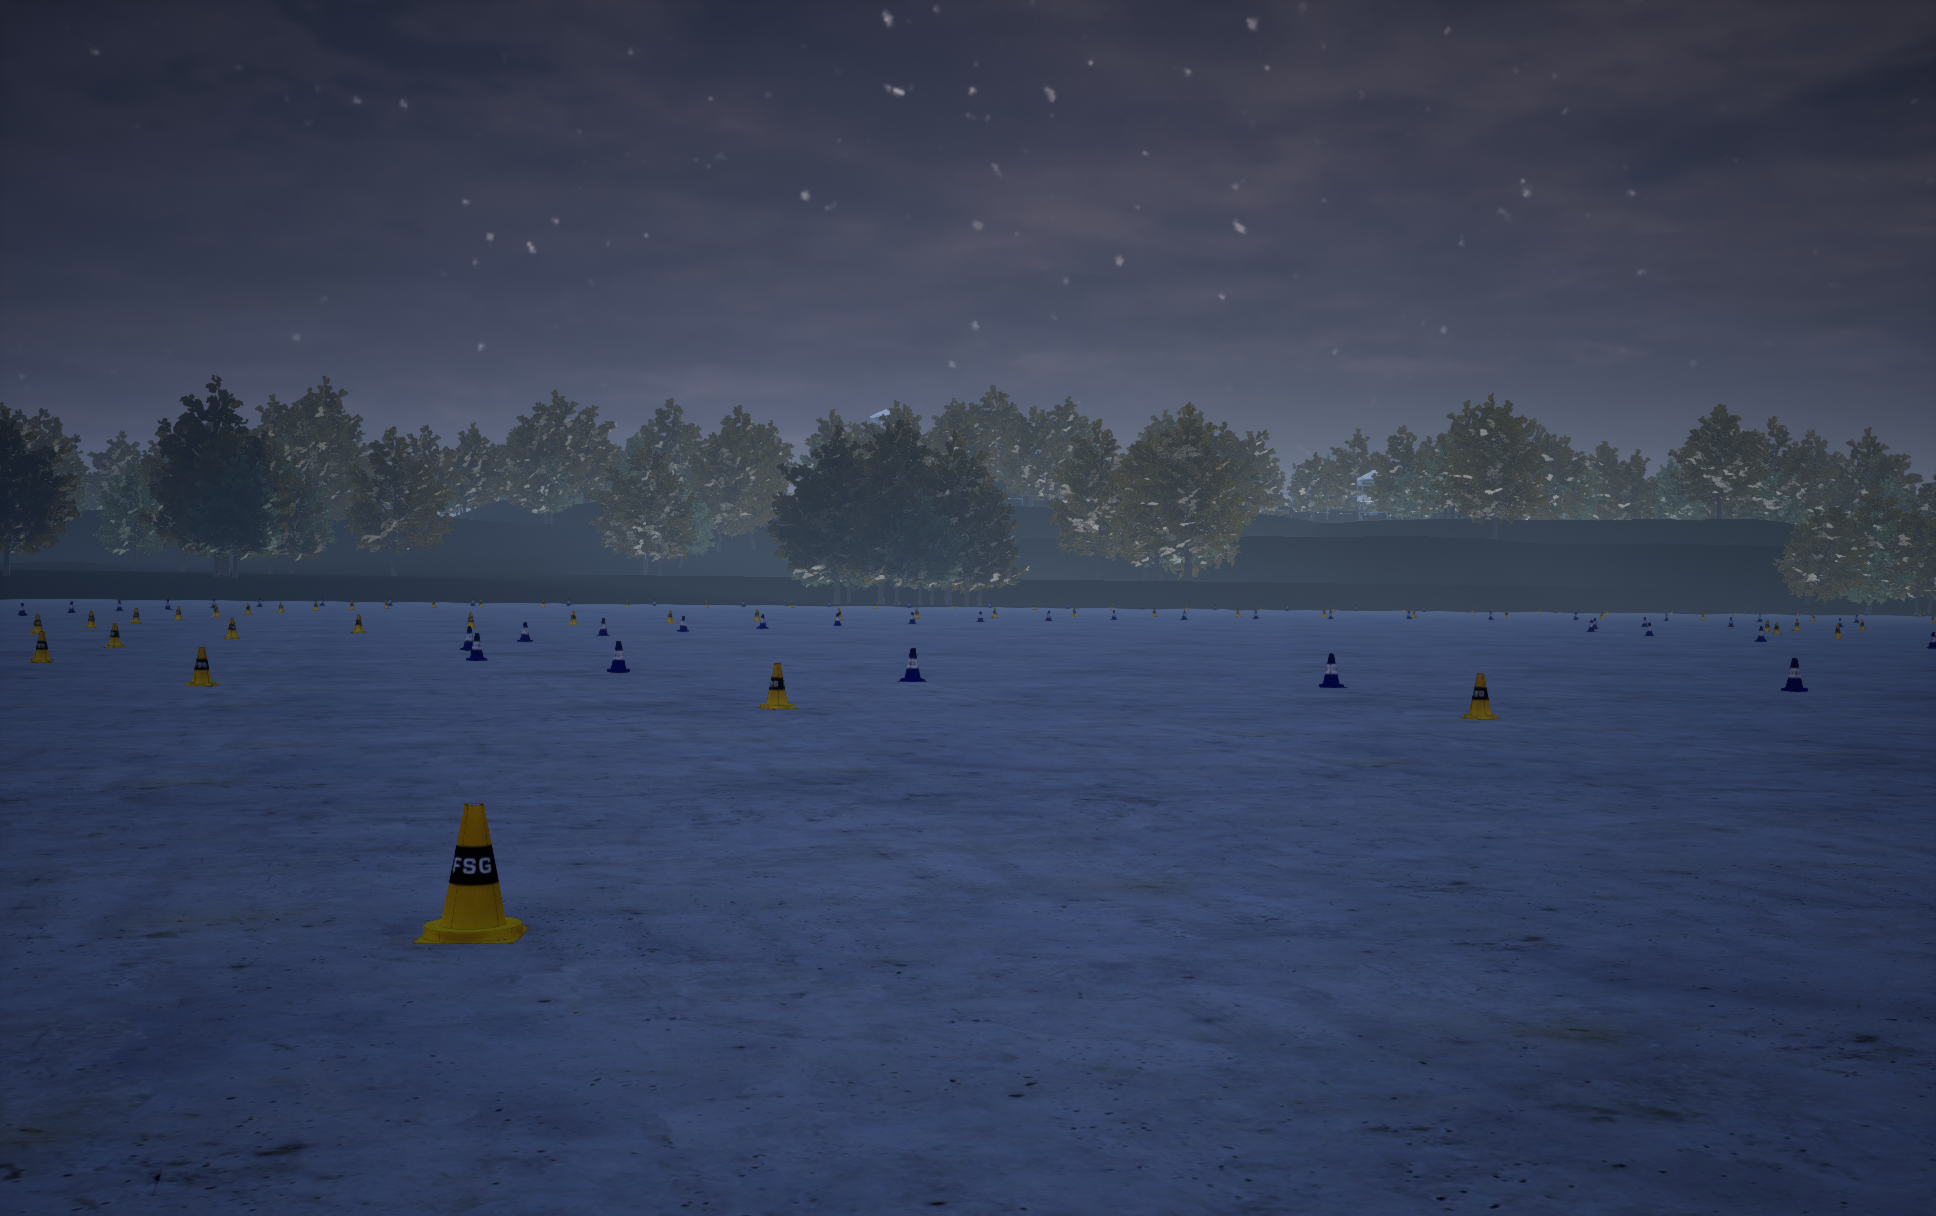blue: (412, 803, 528, 943), (755, 663, 798, 709), (1458, 672, 1500, 719), (186, 647, 219, 686), (29, 630, 53, 663), (104, 623, 125, 647), (224, 616, 240, 637), (29, 614, 45, 633)
yellow: (897, 649, 926, 681), (1320, 653, 1348, 686), (1781, 658, 1807, 691), (607, 642, 629, 672), (466, 633, 488, 660), (459, 626, 473, 650), (517, 622, 532, 642), (595, 618, 609, 635)
